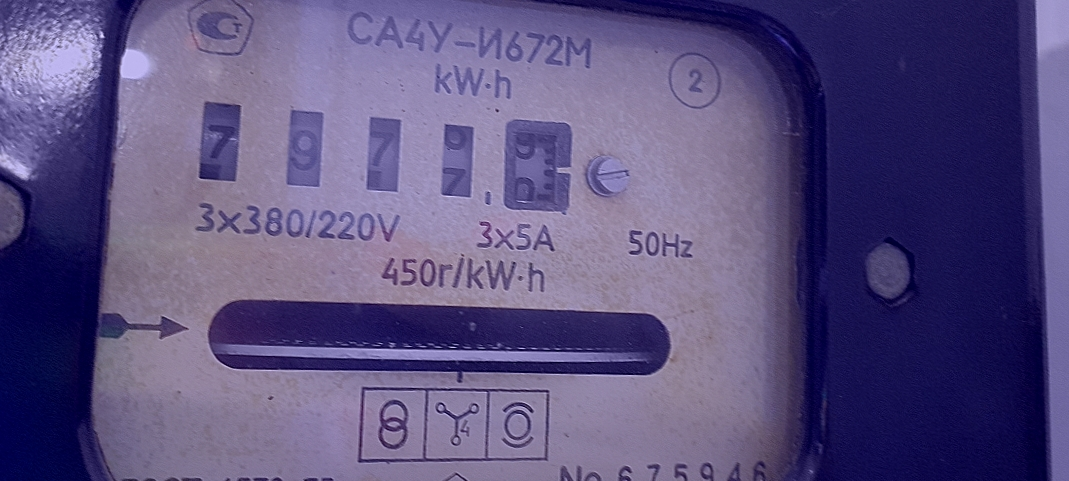0: (511, 173, 535, 203)
7: (201, 119, 236, 165), (438, 158, 469, 201), (367, 128, 396, 169)
9: (287, 126, 319, 174), (511, 130, 541, 162)
screen: (184, 89, 588, 227)
